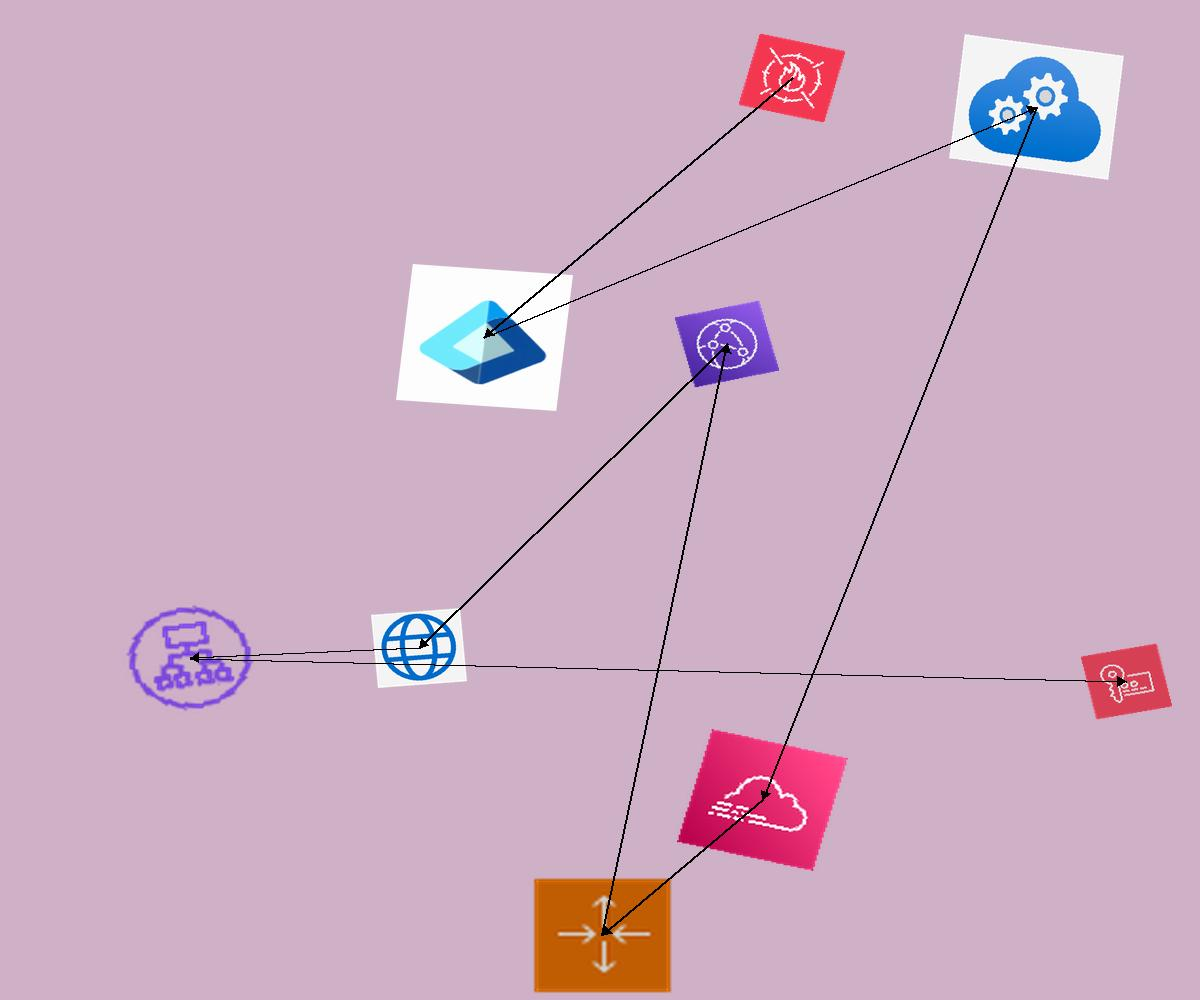AWS-CloudFront: (674, 300, 780, 388)
AWS-CloudTrail: (677, 729, 848, 871)
AWS-Key-Management-Service: (1080, 643, 1173, 720)
AWS-Res_Elastic-Load-Balancing_Application-Load-Balancer: (113, 594, 267, 722)
AWS-Scaling-group: (531, 876, 674, 995)
AWS-WAF: (738, 33, 846, 123)
Azure_cloud_services: (949, 34, 1124, 180)
Azure_http: (371, 608, 467, 688)
Azure_microsoft_entra: (396, 264, 573, 411)
